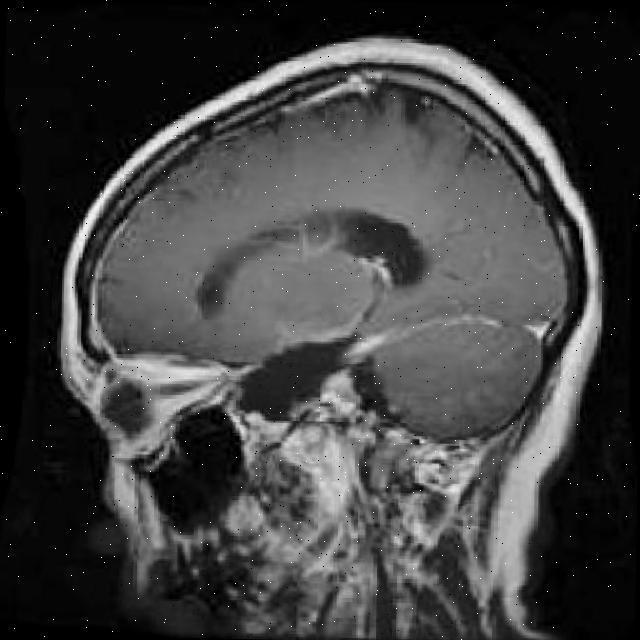LMCI: (317, 268, 418, 330)
